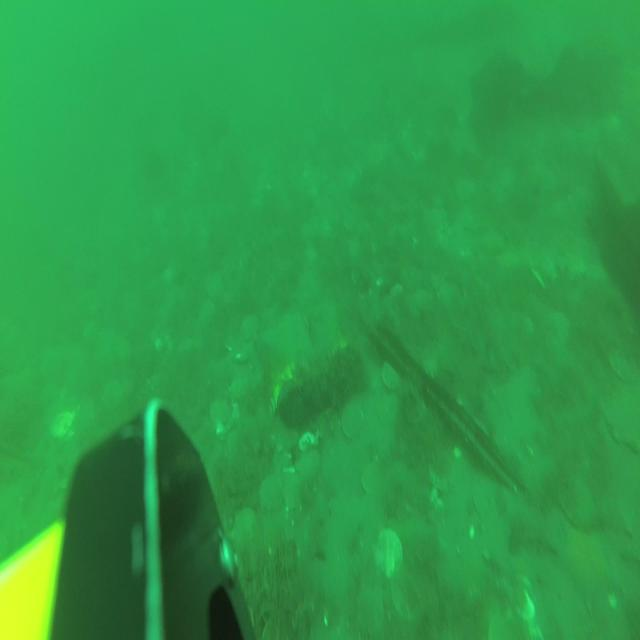scallop: (607, 389, 640, 449), (373, 526, 403, 578), (340, 402, 366, 448), (233, 505, 258, 552), (258, 474, 286, 514), (282, 471, 308, 510), (298, 450, 322, 487), (52, 409, 75, 443), (382, 361, 404, 394), (210, 396, 228, 432), (239, 316, 259, 342)
